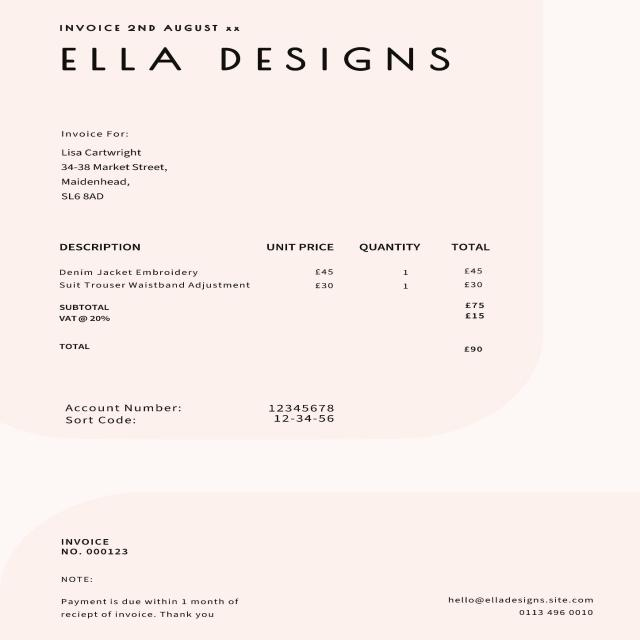paragraph: (54, 303, 495, 357), (55, 44, 453, 75), (55, 129, 172, 204), (54, 575, 250, 619), (64, 402, 336, 432), (445, 594, 595, 618), (56, 22, 244, 36), (59, 537, 135, 557)
table: (56, 239, 492, 291)
